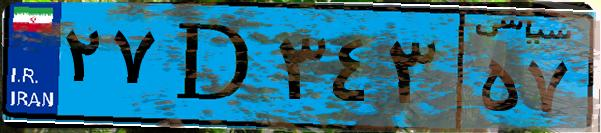2: (57, 26, 110, 100)
3: (270, 28, 330, 110), (385, 28, 445, 110)
4: (330, 28, 385, 110)
5: (475, 38, 525, 113)
7: (525, 38, 570, 115), (110, 28, 158, 98)
D: (158, 12, 270, 120)
